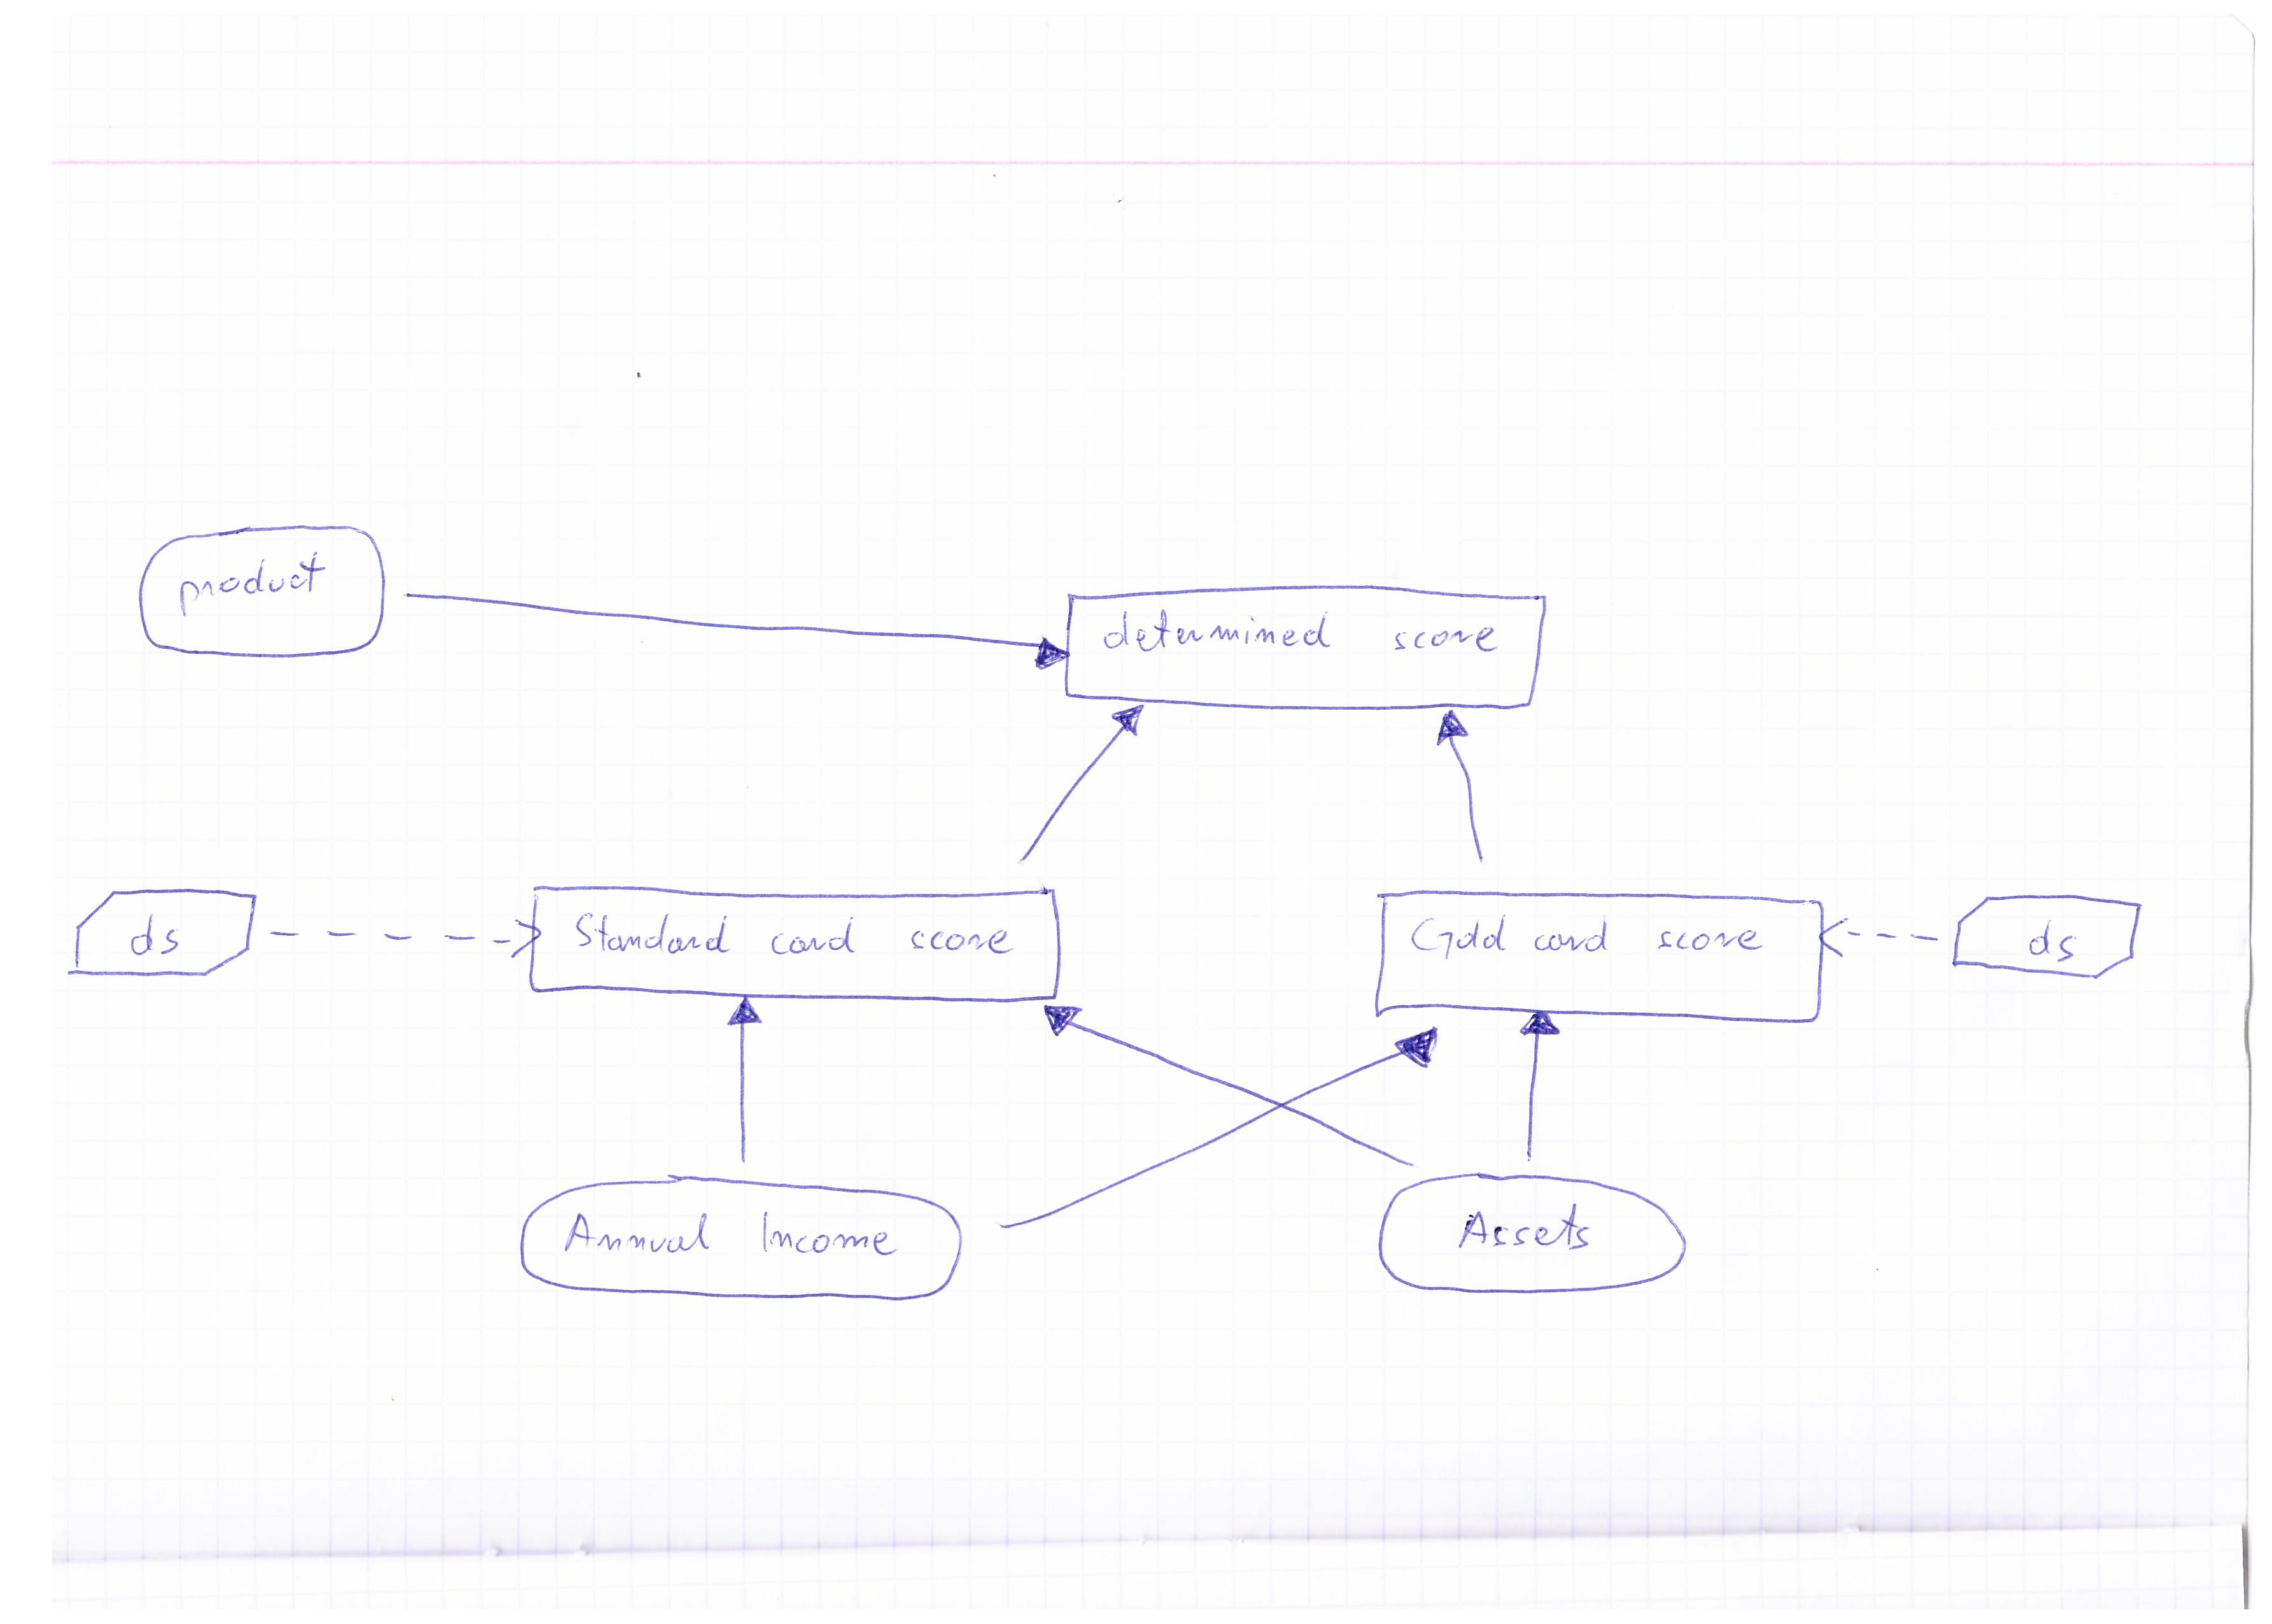arrow_information_requirement: (991, 1019, 1446, 1239), (1026, 991, 1420, 1176), (397, 573, 1072, 670), (1002, 698, 1156, 879), (1418, 703, 1502, 872), (717, 984, 771, 1174), (1511, 997, 1564, 1171)
arrow_knowledge_requirement: (258, 912, 548, 963), (1806, 910, 1949, 970)
node_decision: (1365, 879, 1833, 1028), (522, 879, 1067, 1005), (1060, 578, 1553, 714)
node_input_data: (508, 1162, 975, 1323), (1374, 1171, 1701, 1302), (125, 517, 395, 671)
node_knowledge_model: (1947, 882, 2154, 998), (60, 877, 260, 991)
text: (559, 905, 1023, 968), (1093, 603, 1509, 670), (1402, 907, 1780, 972), (559, 1206, 919, 1272), (169, 541, 334, 629), (1439, 1193, 1597, 1271), (2007, 909, 2089, 968), (118, 909, 185, 965)
